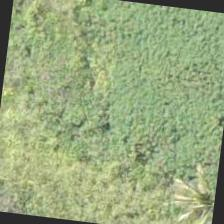Kelapa_Sawit: (156, 145, 221, 223)
